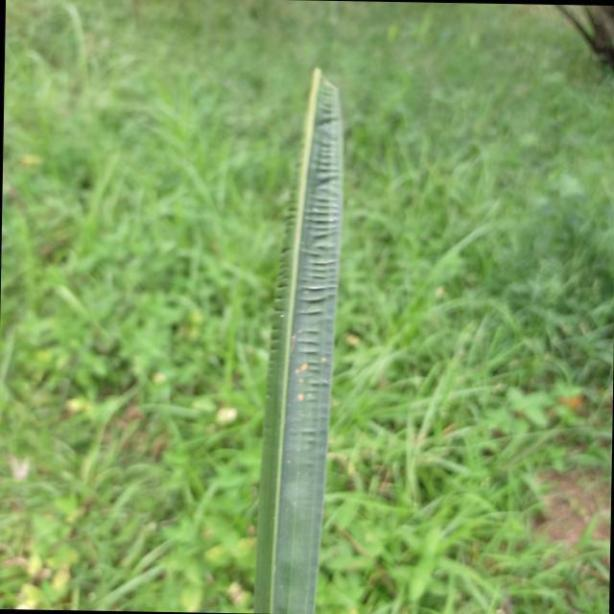Boron: (248, 59, 345, 614)
